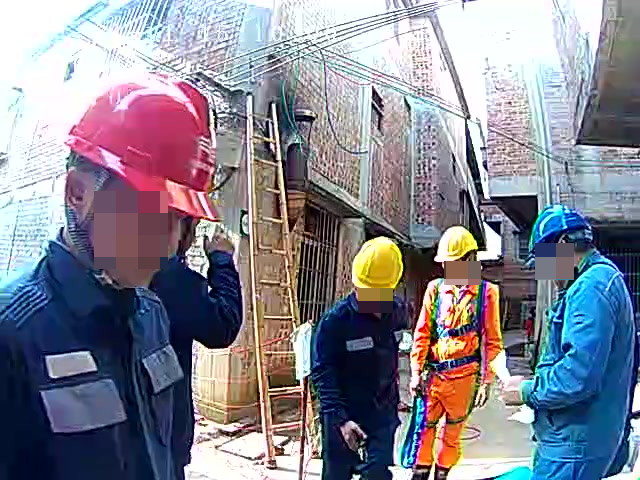downsuit: (314, 407, 402, 480), (534, 447, 620, 476)
halt: (531, 205, 599, 270), (352, 238, 406, 310), (435, 226, 480, 283)
hand: (339, 418, 376, 451), (476, 381, 491, 405)
inear: (63, 164, 103, 242)
outear: (555, 239, 576, 276)
person: (3, 80, 223, 480), (512, 202, 640, 480), (301, 236, 413, 480), (405, 226, 500, 480)
upsuit: (9, 285, 186, 480), (59, 85, 217, 287), (306, 294, 411, 458), (538, 281, 629, 446)
ydownsuit: (408, 362, 479, 478)
yupsuit: (419, 281, 495, 358)
